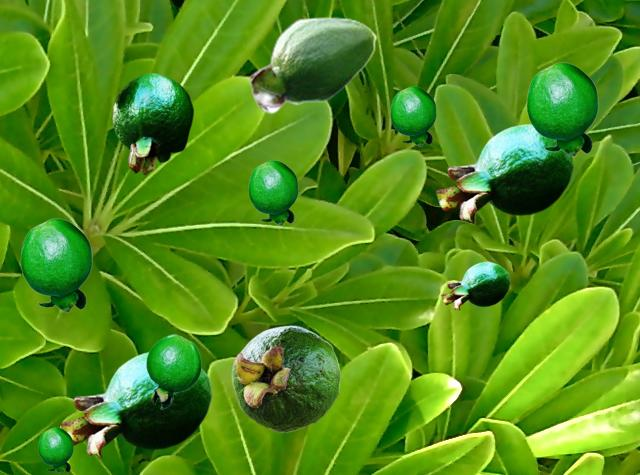guava: (60, 351, 211, 457), (435, 123, 573, 222), (249, 16, 376, 113), (231, 325, 340, 432), (112, 72, 193, 174), (526, 62, 597, 155), (20, 218, 91, 311), (146, 334, 200, 408), (441, 261, 509, 309), (248, 160, 297, 224), (390, 86, 435, 145), (38, 427, 72, 472)
